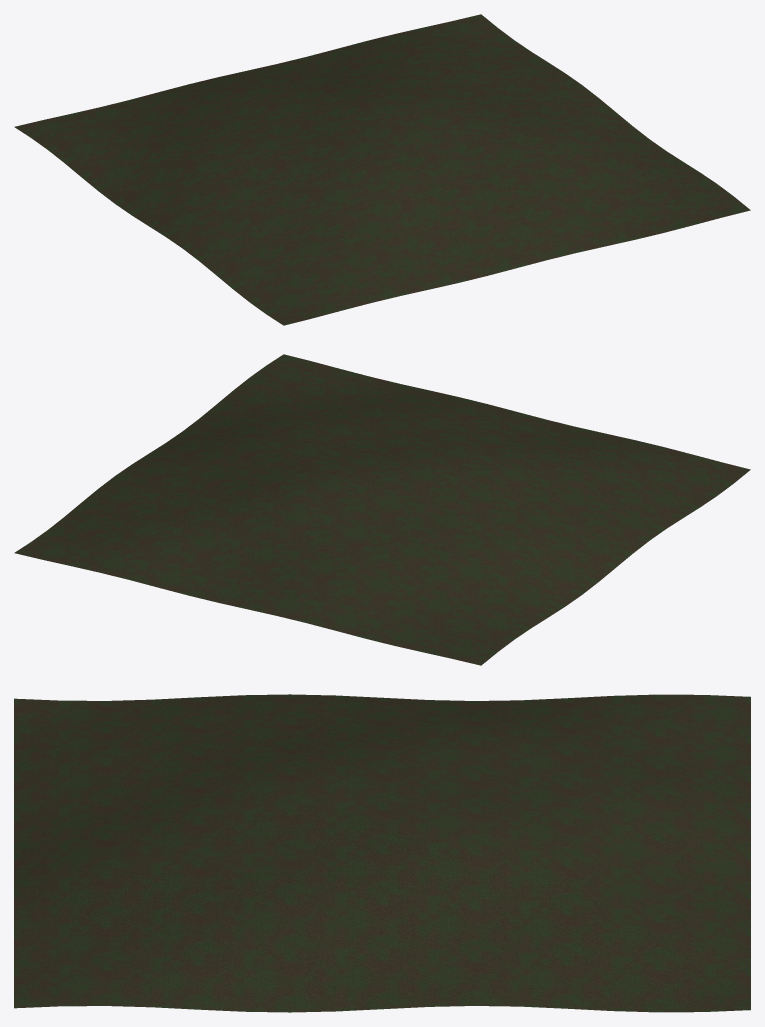
The model's file is ground-mound-40m.glb.
3 views of the same model, one above another, from view 1: azimuth 30°, elevation 25°; view 2: azimuth 150°, elevation 25°; view 3: azimuth 270°, elevation 25° (orthographic). The views are drawn at different scales.
Parts seen in each view (by area): view 1: Low hill; view 2: Low hill; view 3: Low hill.
Boxes of the visible parts, left/top/right/bottom form: Low hill: left=14, top=14, right=750, bottom=325; Low hill: left=14, top=354, right=750, bottom=665; Low hill: left=14, top=694, right=750, bottom=1012.
Bounding box in the file's own units: 40 × 3.2 × 40.
Materials: 1 (1 with a texture image).
